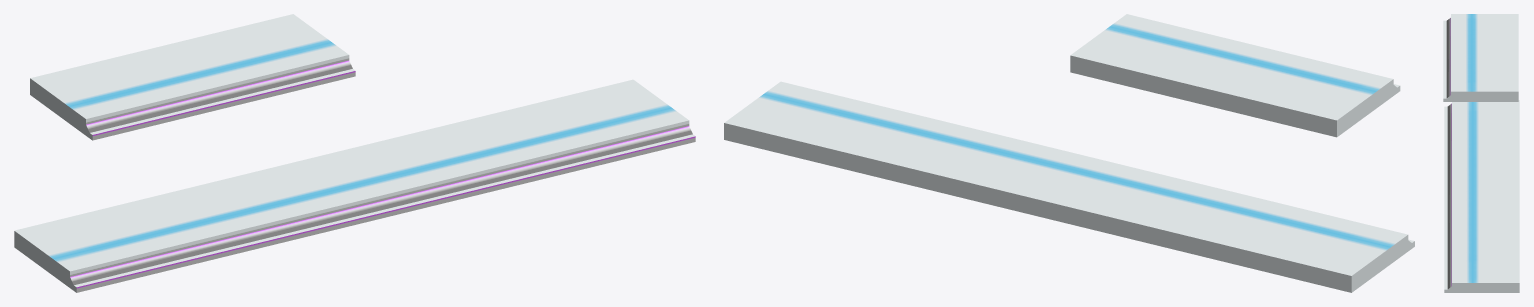
Rendered from scaffold.fbx.
3 renders of one model, left to right at view 1: azimuth 30°, elevation 25°; view 2: azimuth 150°, elevation 25°; view 3: azimuth 270°, elevation 25°, orthographic. The views are drawn at different scales.
Visible parts, largest first — view 1: pCube1, pasted__pCube1; view 2: pCube1, pasted__pCube1; view 3: pCube1, pasted__pCube1.
Part boxes in pixels (x1,y1,x2,y2): pCube1: (14,79,695,292); pasted__pCube1: (30,14,355,140); pCube1: (724,81,1414,292); pasted__pCube1: (1070,14,1400,137); pCube1: (1444,100,1519,292); pasted__pCube1: (1443,14,1518,101).
Bounding box in the file's own units: 15.87 × 4.06 × 2.8.
2 materials, 2 textured.
